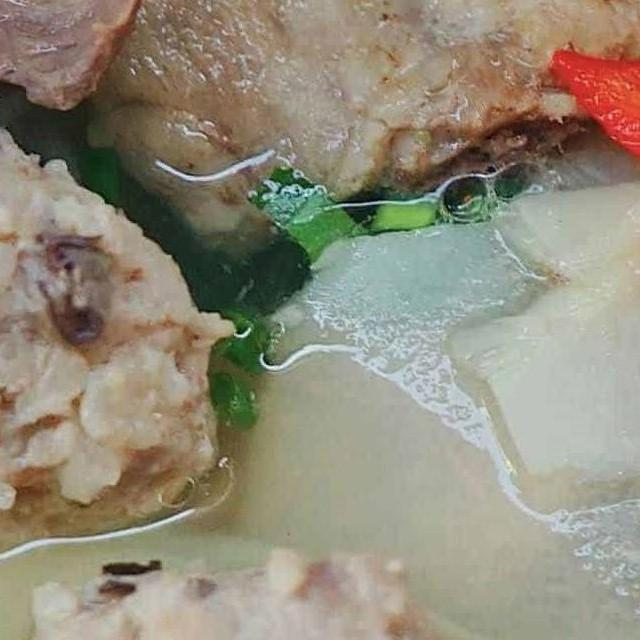vien moc: (0, 93, 274, 580), (0, 536, 482, 640)
